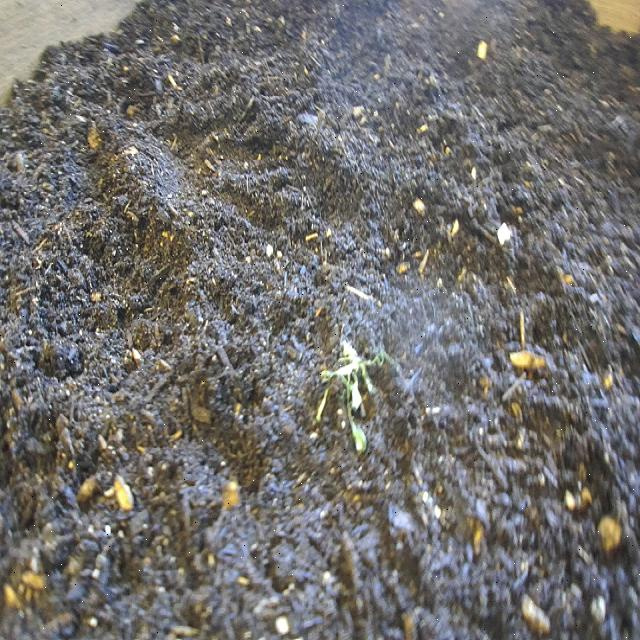Unhealthy: (312, 311, 387, 462)
